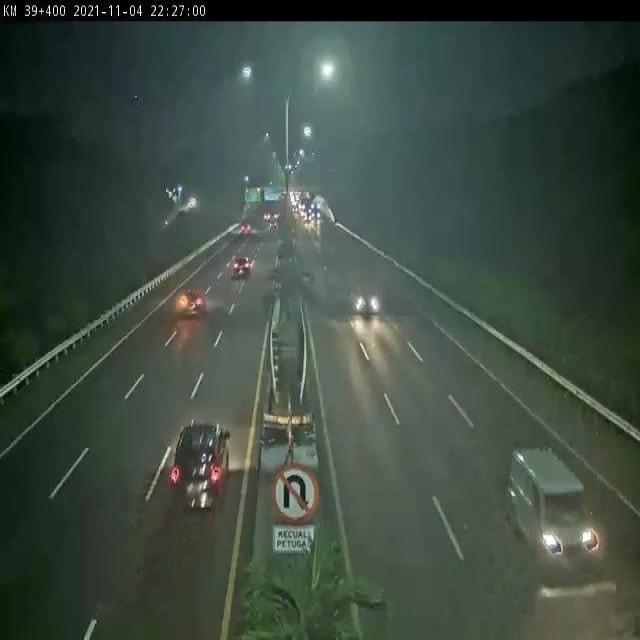Car: (162, 416, 240, 527), (340, 271, 400, 338), (223, 246, 269, 295), (173, 277, 212, 330)
Van: (487, 439, 616, 580)
